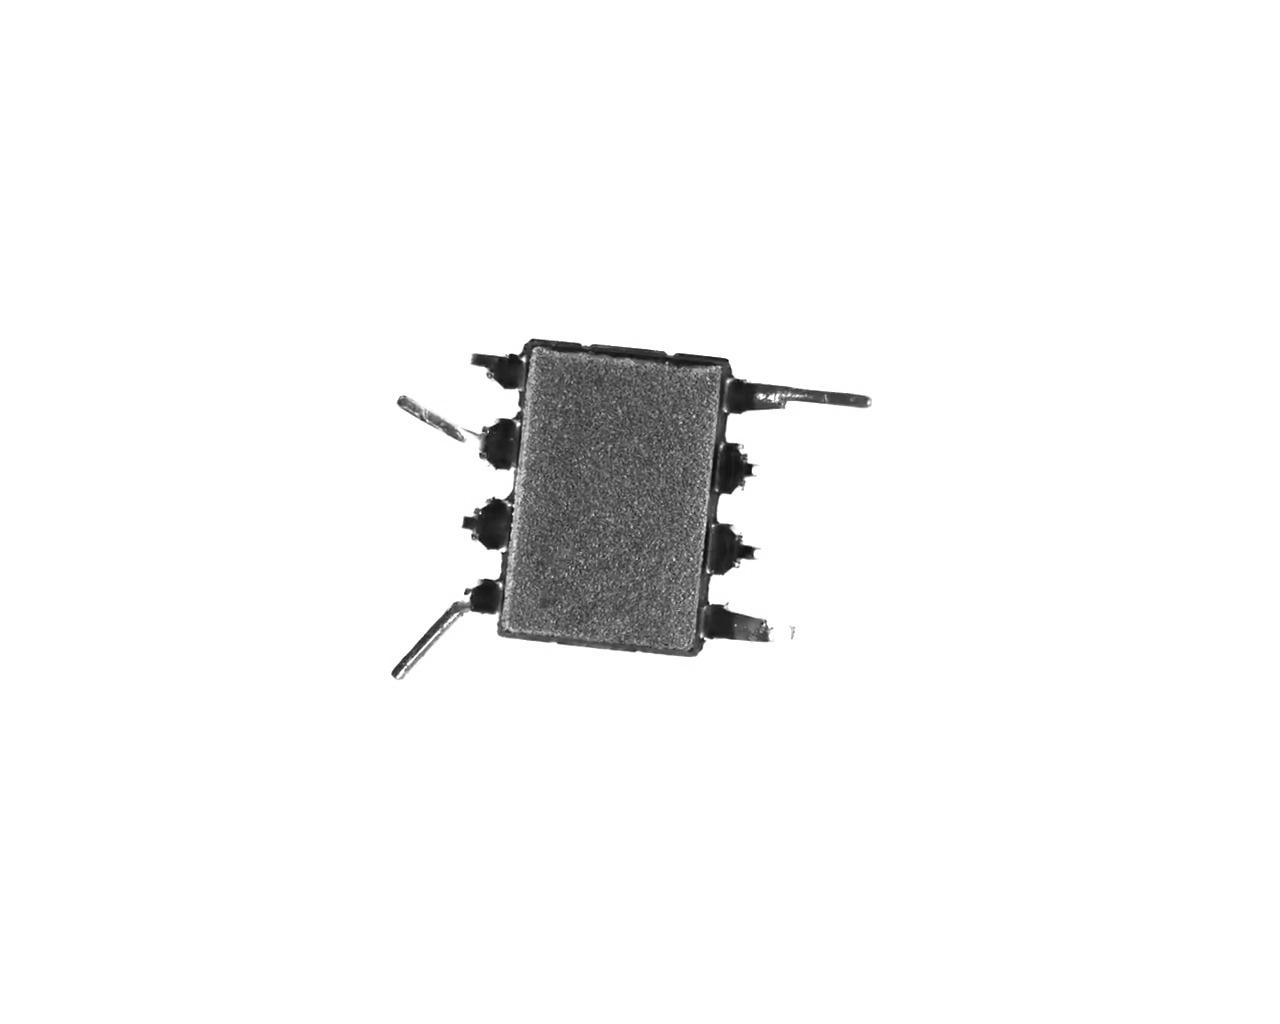Leg: (368, 575, 504, 680), (385, 394, 526, 479), (730, 374, 879, 435), (699, 599, 804, 665)
brokenLeg: (452, 494, 525, 564), (703, 430, 761, 501), (711, 518, 765, 587), (462, 351, 533, 397)
